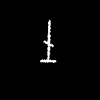double_crochet: (41, 20, 55, 62)
